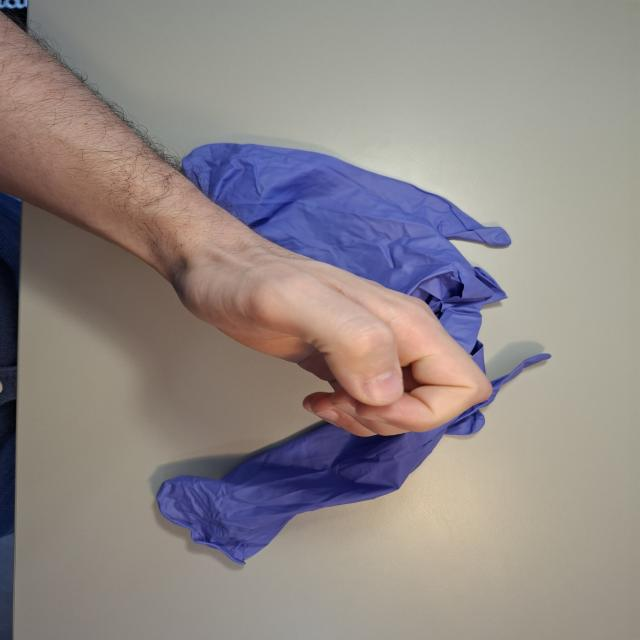glove_off: (170, 227, 498, 438)
